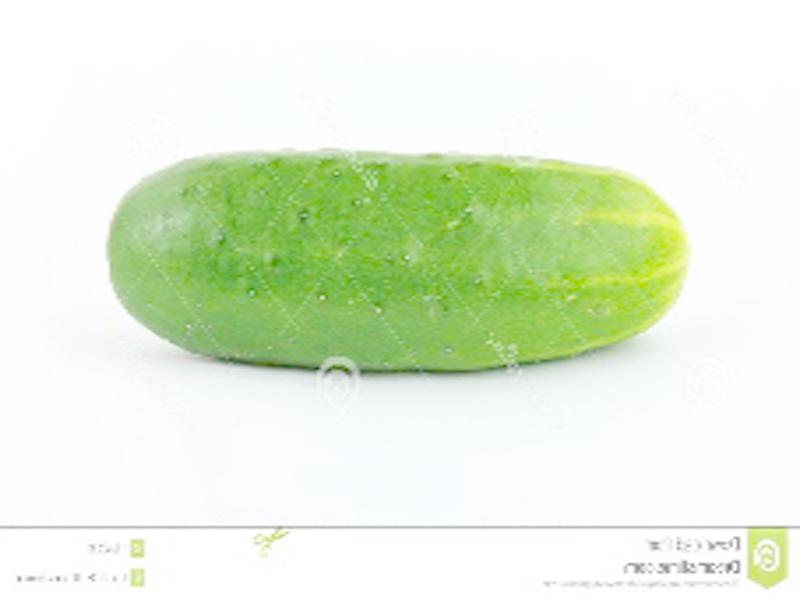Cucumber: (105, 153, 686, 373)
